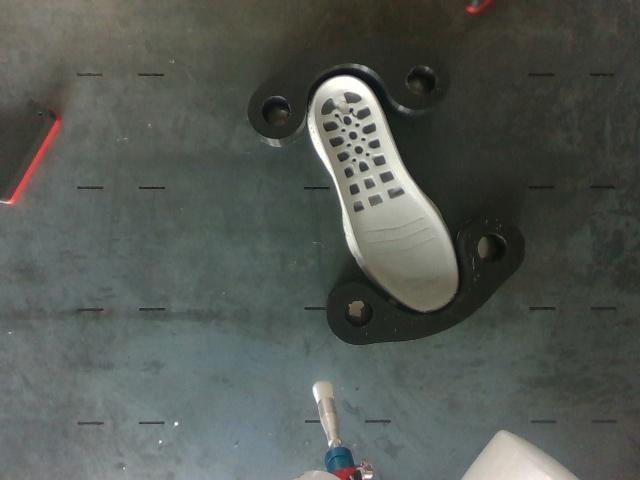shoes: (315, 77, 457, 311)
